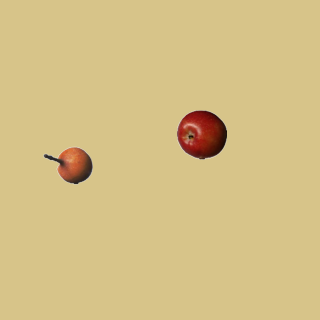Apple Braeburn: (176, 109, 226, 159)
Granadilla: (42, 140, 92, 190)
